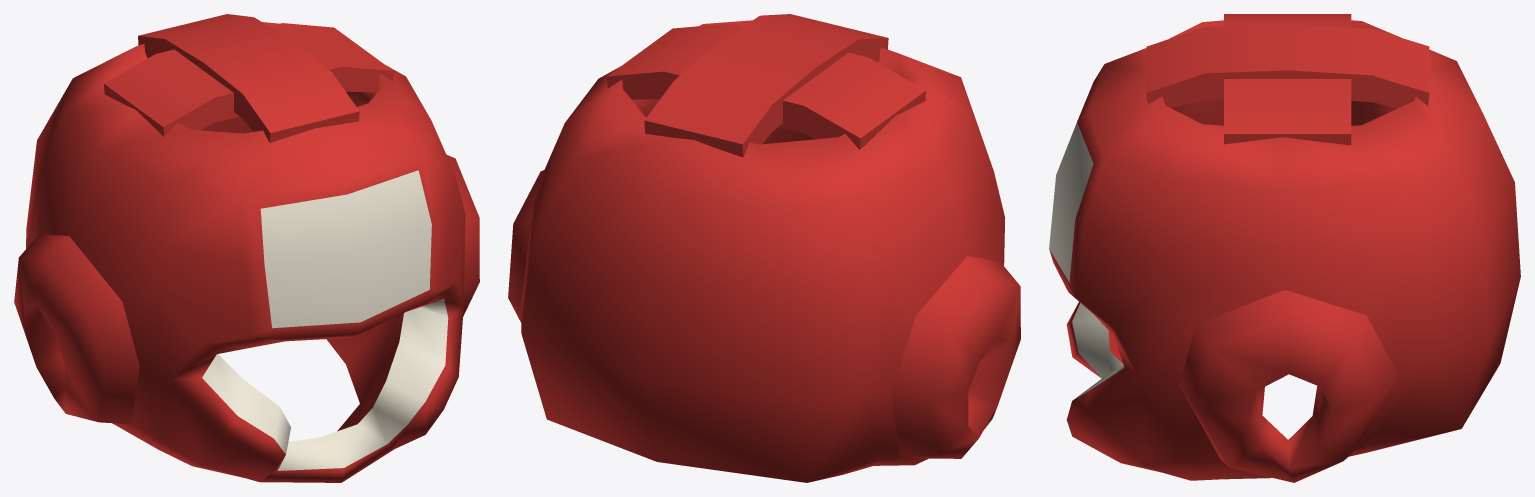
The model's file is Headgear_36.fbx.
The picture shows the model from 3 angles, left to right: view 1: azimuth 30°, elevation 25°; view 2: azimuth 150°, elevation 25°; view 3: azimuth 270°, elevation 25°; orthographic projection. The views are drawn at different scales.
Parts seen in each view (by area): view 1: Headgear_36; view 2: Headgear_36; view 3: Headgear_36.
Part boxes in pixels (x1,y1,x2,y2): Headgear_36: (14,14,479,482); Headgear_36: (508,14,1020,482); Headgear_36: (1049,14,1520,482).
Bounding box in the file's own units: 70.46 × 60.47 × 63.74.
